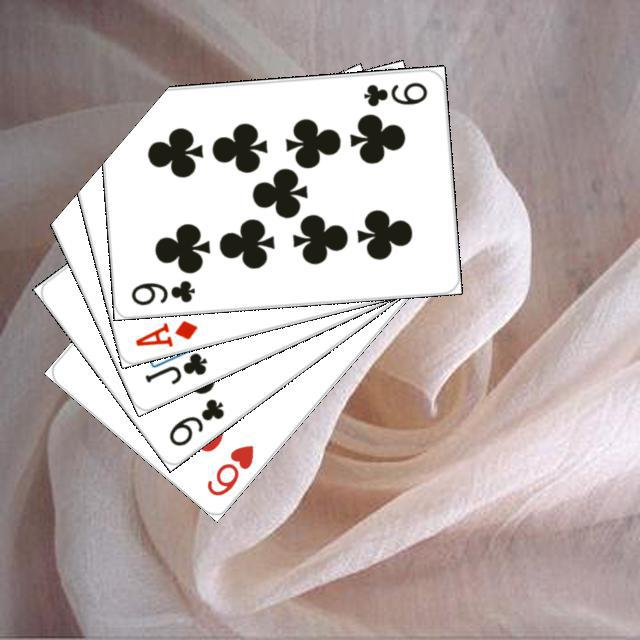6h: (201, 439, 256, 498)
9c: (163, 393, 226, 448), (126, 275, 197, 308), (359, 77, 429, 109)
Ad: (130, 315, 200, 348)
Jc: (139, 347, 209, 387)
